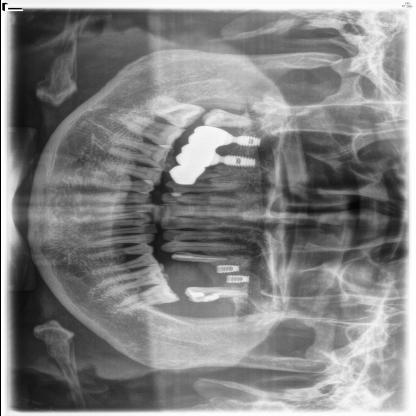Bicon: (214, 153, 256, 167), (226, 132, 262, 146), (215, 264, 238, 274), (224, 276, 252, 284)
